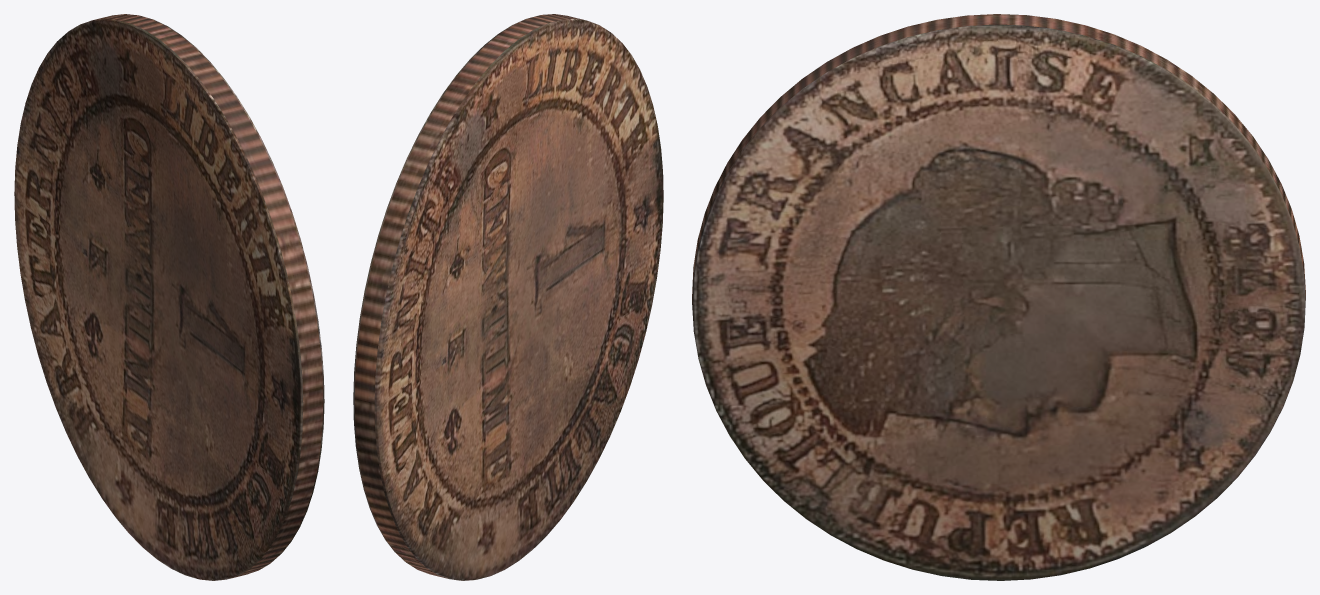
File: 1_Santim.obj
The picture shows the model from 3 angles, left to right: view 1: azimuth 30°, elevation 25°; view 2: azimuth 150°, elevation 25°; view 3: azimuth 270°, elevation 25°; orthographic projection. The views are drawn at different scales.
Parts seen in each view (by area): view 1: 1_Santim; view 2: 1_Santim; view 3: 1_Santim.
Boxes of the visible parts, <box> form: 1_Santim: <box>14,14,324,580</box>; 1_Santim: <box>353,14,663,580</box>; 1_Santim: <box>692,14,1305,580</box>.
Size of the model in its own units: 0.00153 by 0.03 by 0.03.
